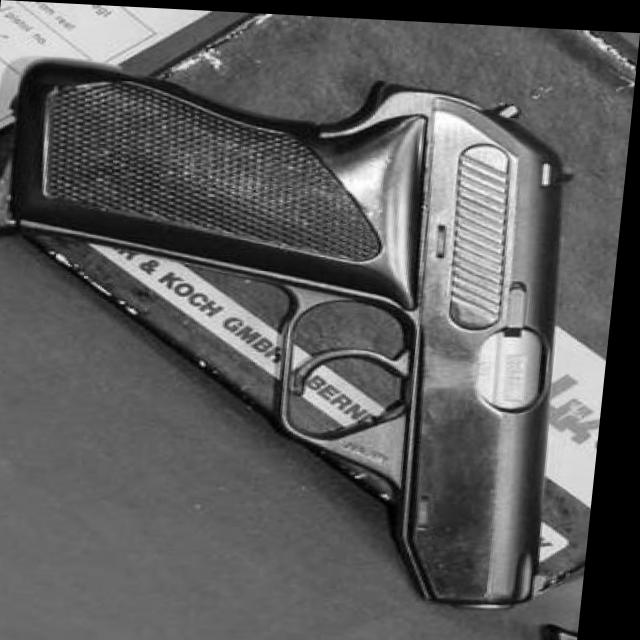handgun: (0, 55, 589, 606)
